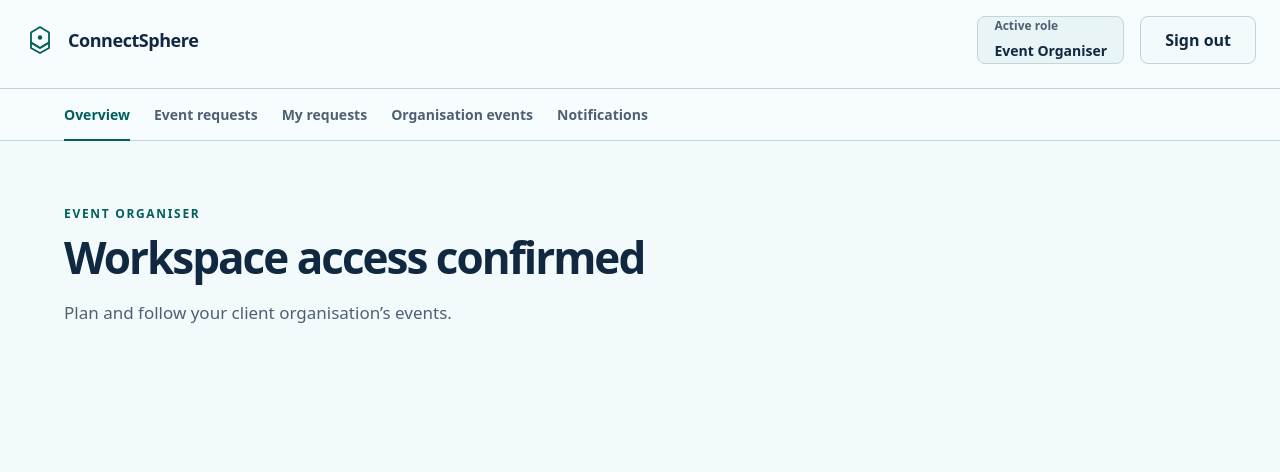
Test case: every role can reach its inbox from the workspace › [QA-SPL-101-038] the event_organiser workspace links to a working inbox
Step 1. Click the link "Notifications" → (602, 114), box x1=557 y1=105 x2=648 y2=124
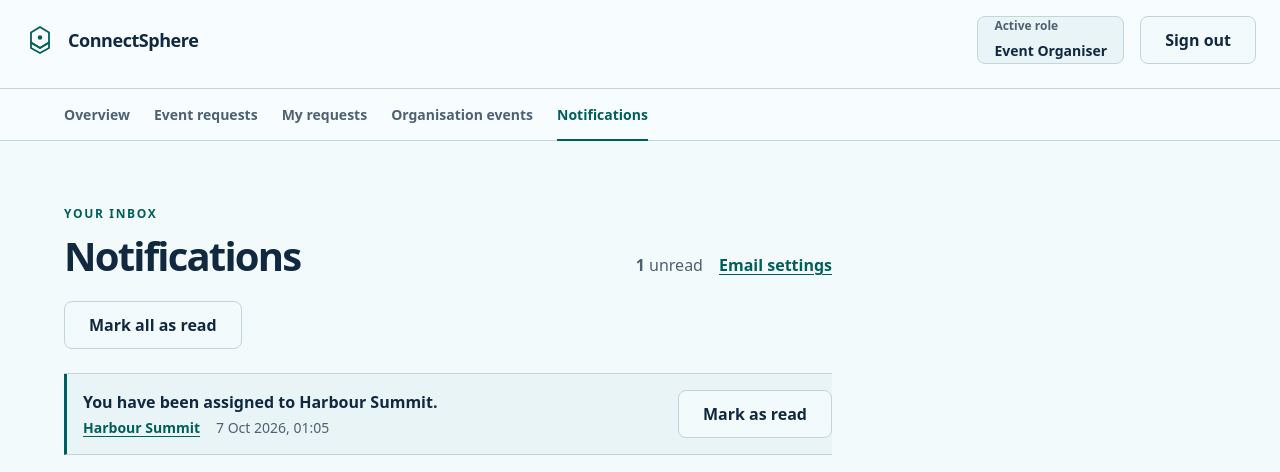
Check: the heading "Notifications" is shown, box x1=64 y1=234 x2=300 y2=277
Check: the text "You have been assigned to Harbour Summit." is shown, box x1=83 y1=390 x2=438 y2=414
